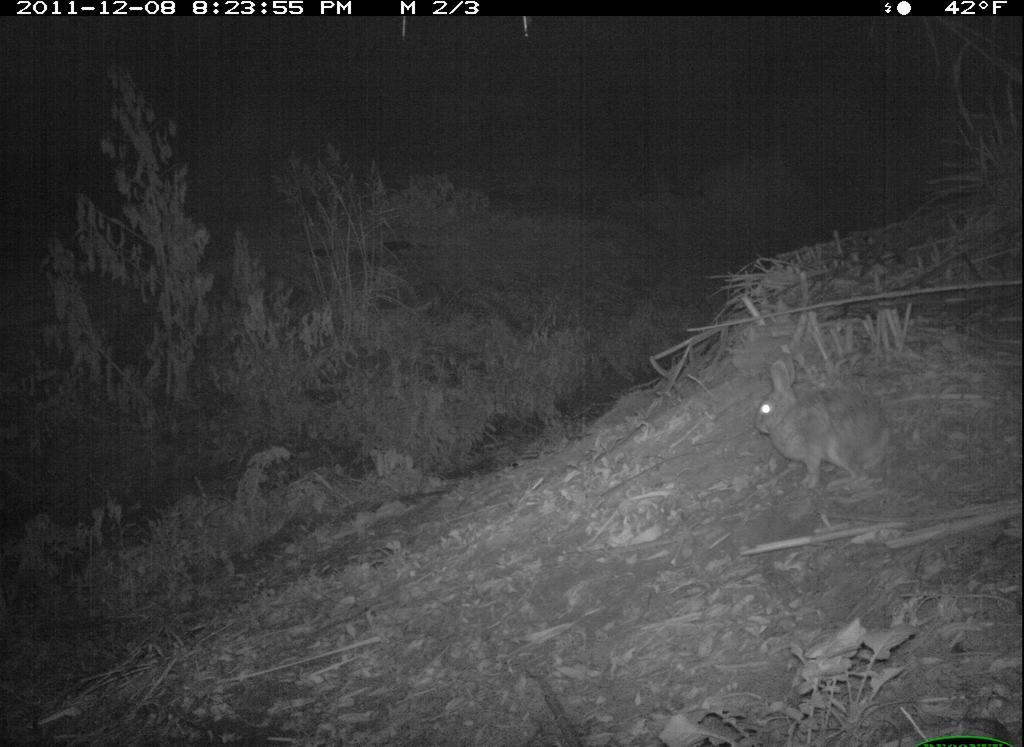rabbit: (757, 349, 893, 497)
